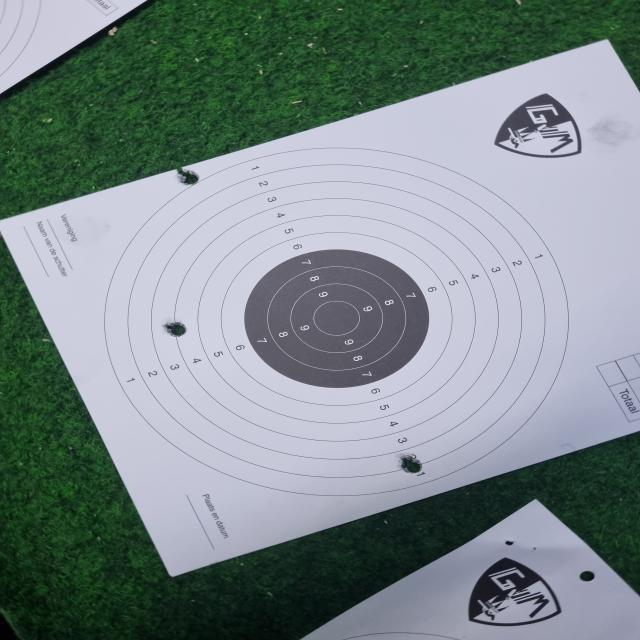0: (175, 168, 200, 186)
2: (398, 455, 422, 474)
4: (164, 322, 188, 337)
Target: (104, 147, 570, 497)
black_contour: (239, 246, 436, 389)
